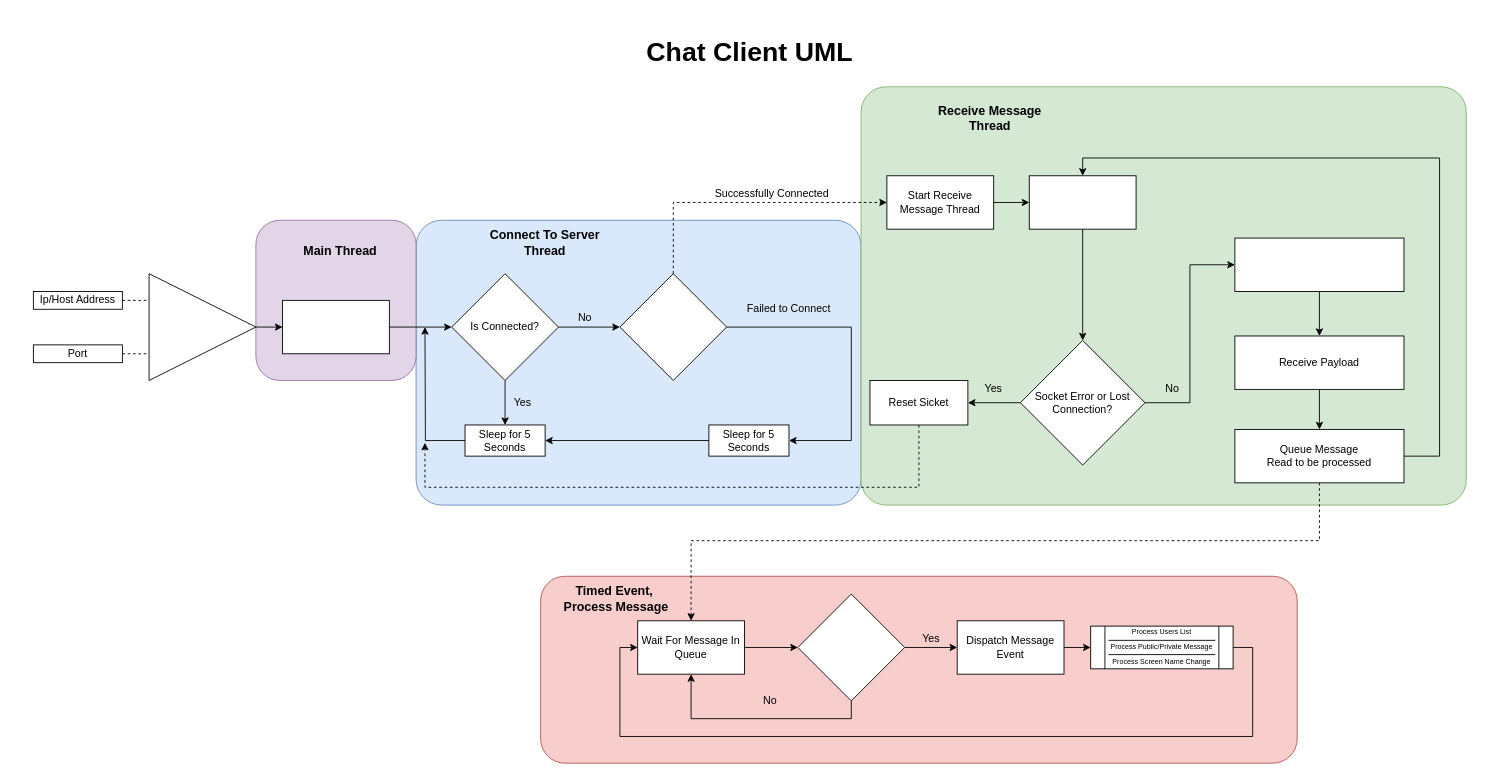
Some shapes in this 1499 by 779 pixel diagram are drawn without their labels. Each missing label, with the box of its shape:
Application Start: (148, 273, 256, 380)
Connected to Server: (619, 273, 727, 380)
Has Message In Queue: (797, 593, 905, 701)
Receive First 2 Bytes of Message, For Payload Size: (1234, 237, 1404, 291)
Start Connect to Server Thread: (282, 299, 389, 354)
Wait for Message: (1028, 175, 1136, 229)
